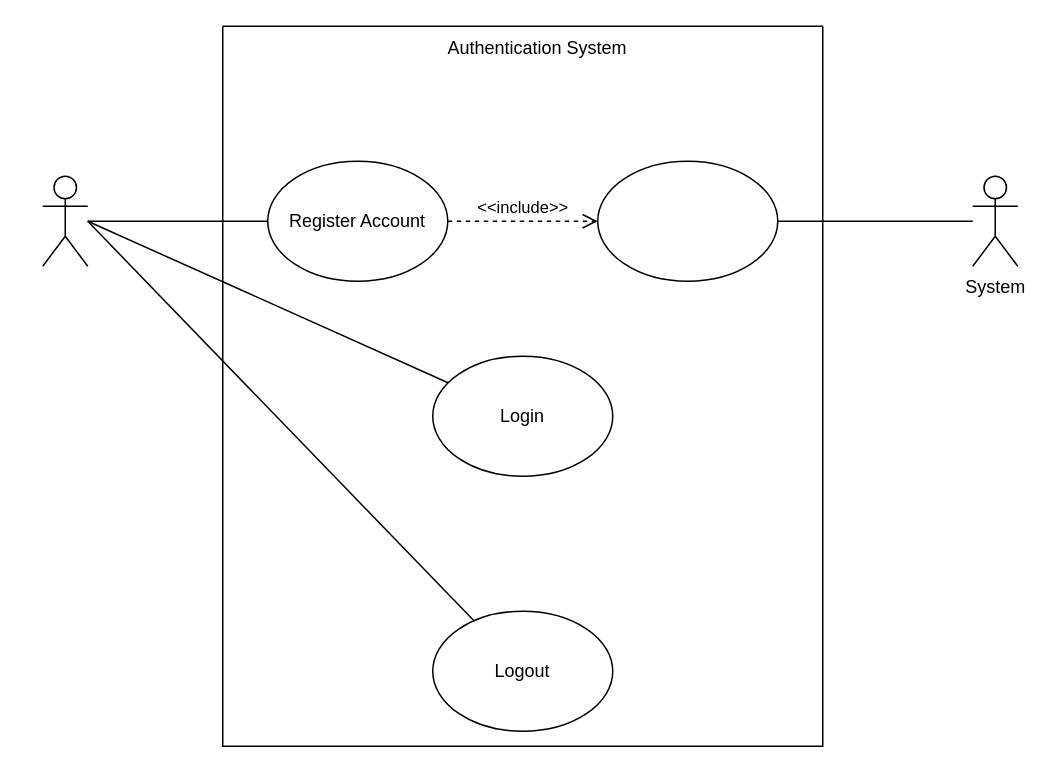
This 1052x773 diagram has some shape labels left out. Each missing label, with the centre of its shape:
"Customer" goes at point 64,220.
"Verify Email" goes at point 687,220.
